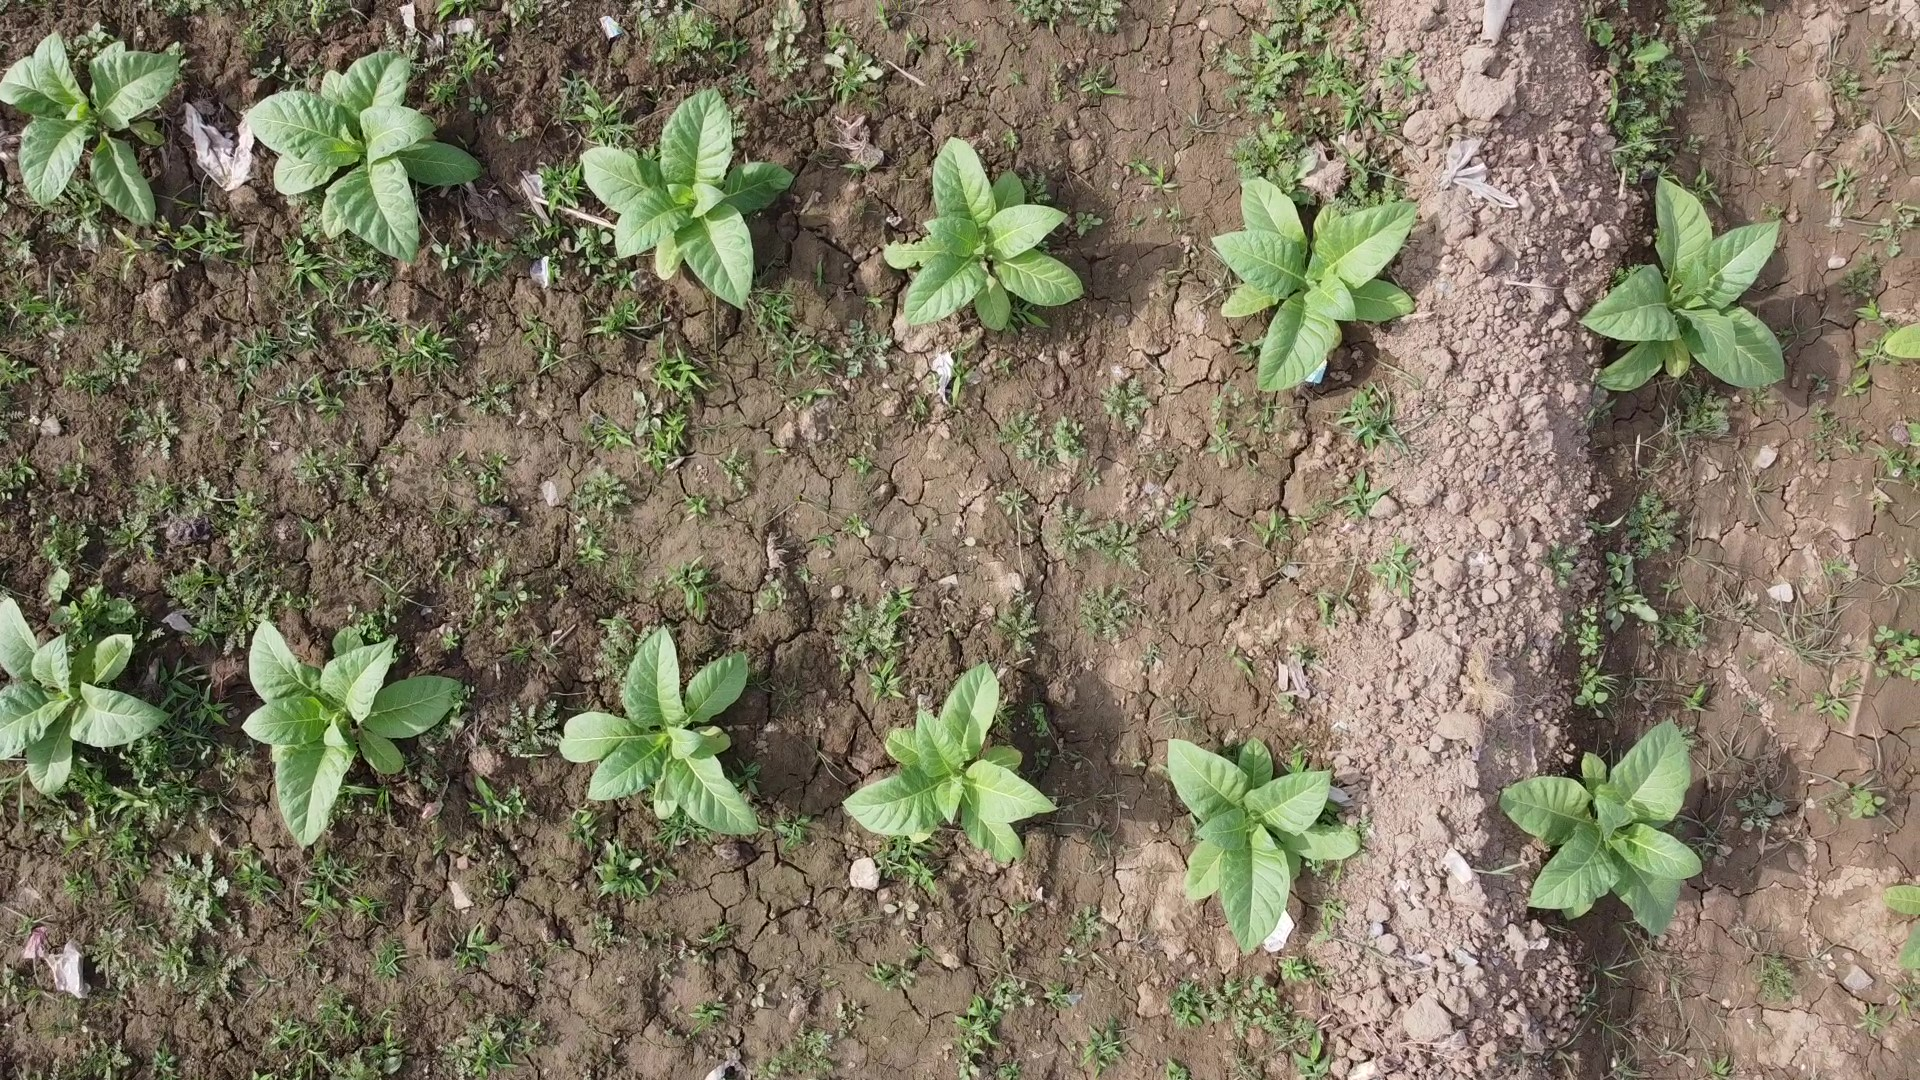weed: (1595, 189, 1855, 415), (1210, 161, 1442, 394), (1505, 730, 1731, 934), (603, 90, 809, 308), (827, 678, 1081, 846), (1167, 740, 1367, 917), (616, 680, 794, 848), (241, 583, 392, 773), (921, 161, 1091, 323), (297, 43, 456, 215), (15, 45, 157, 204), (24, 613, 133, 738), (1879, 299, 1920, 365), (1890, 870, 1920, 940)
